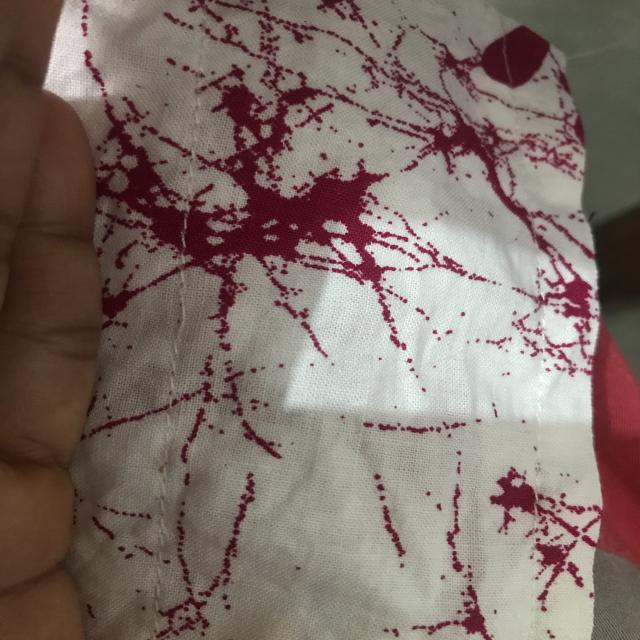skip: (152, 284, 204, 343)
